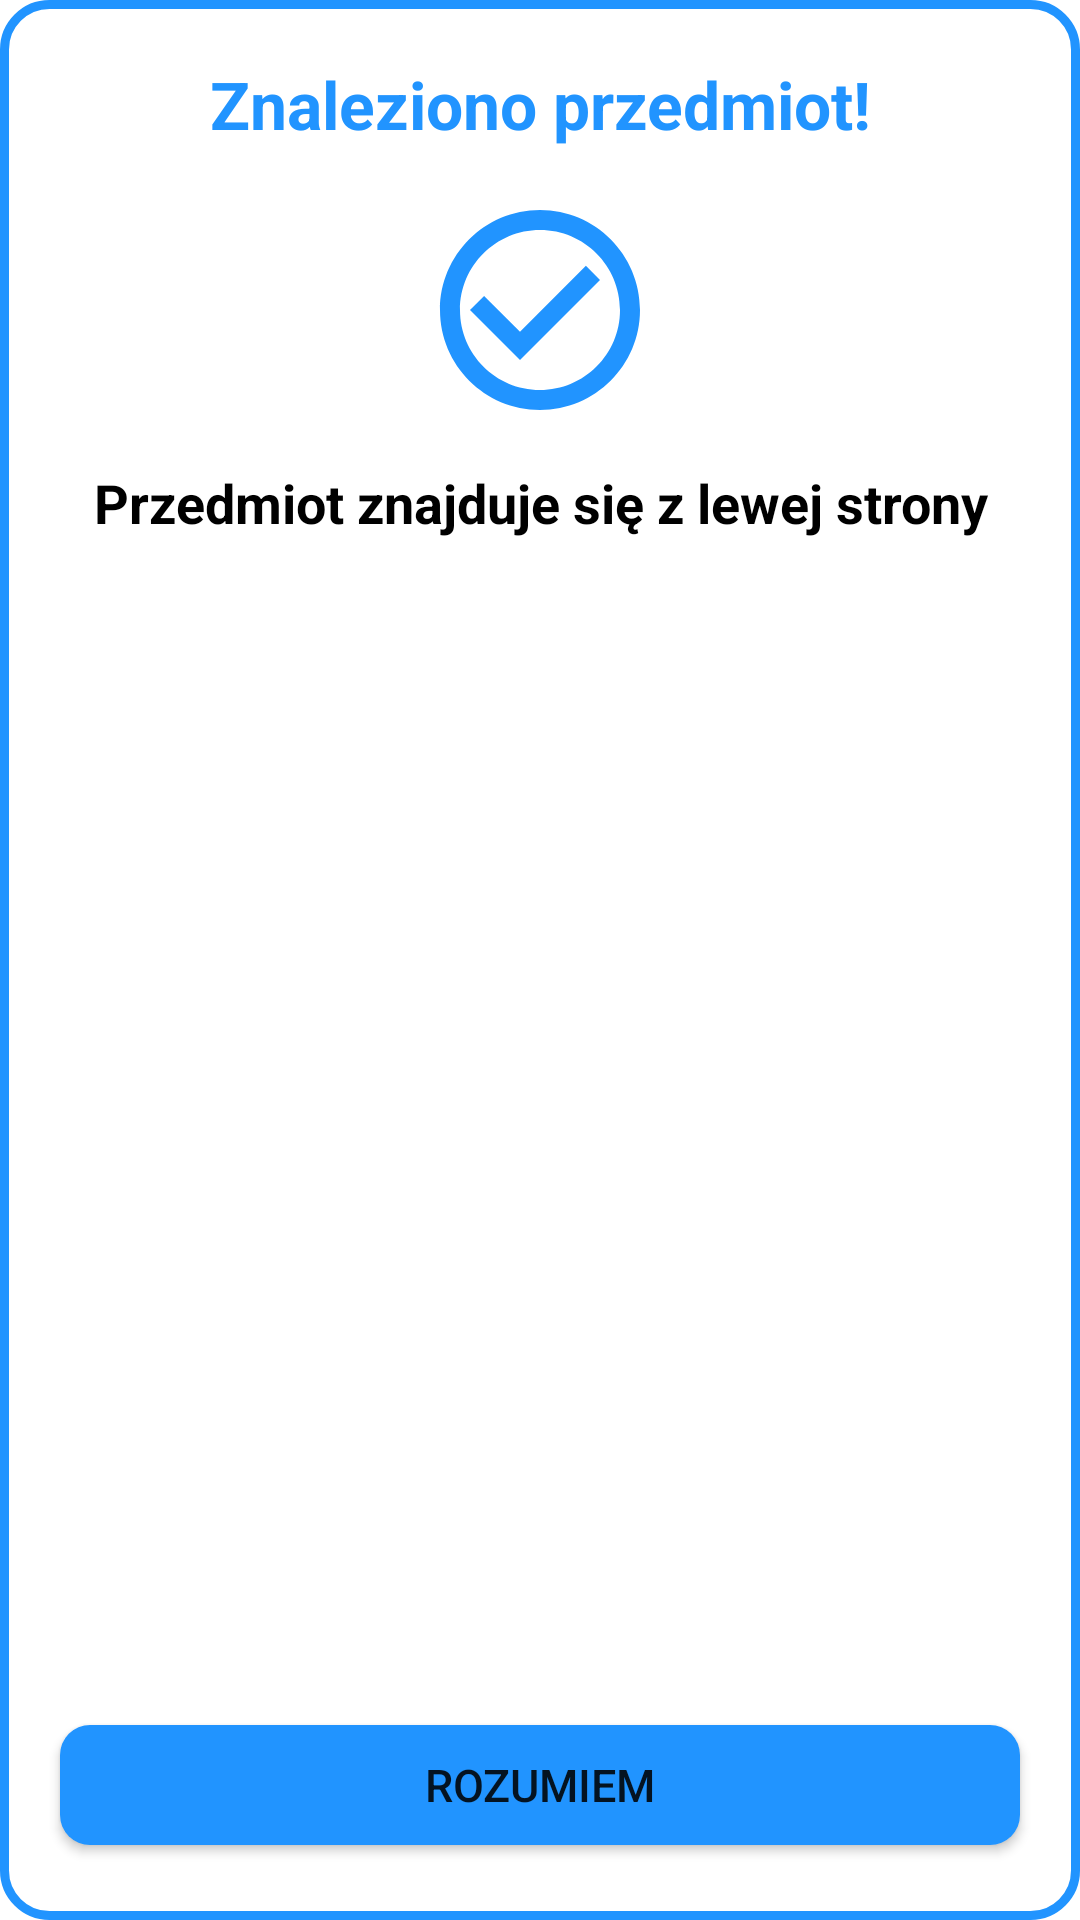

Where to tap for icons on this 1080px x 1920px app screen, as (x,y):
item found: (540,310)
